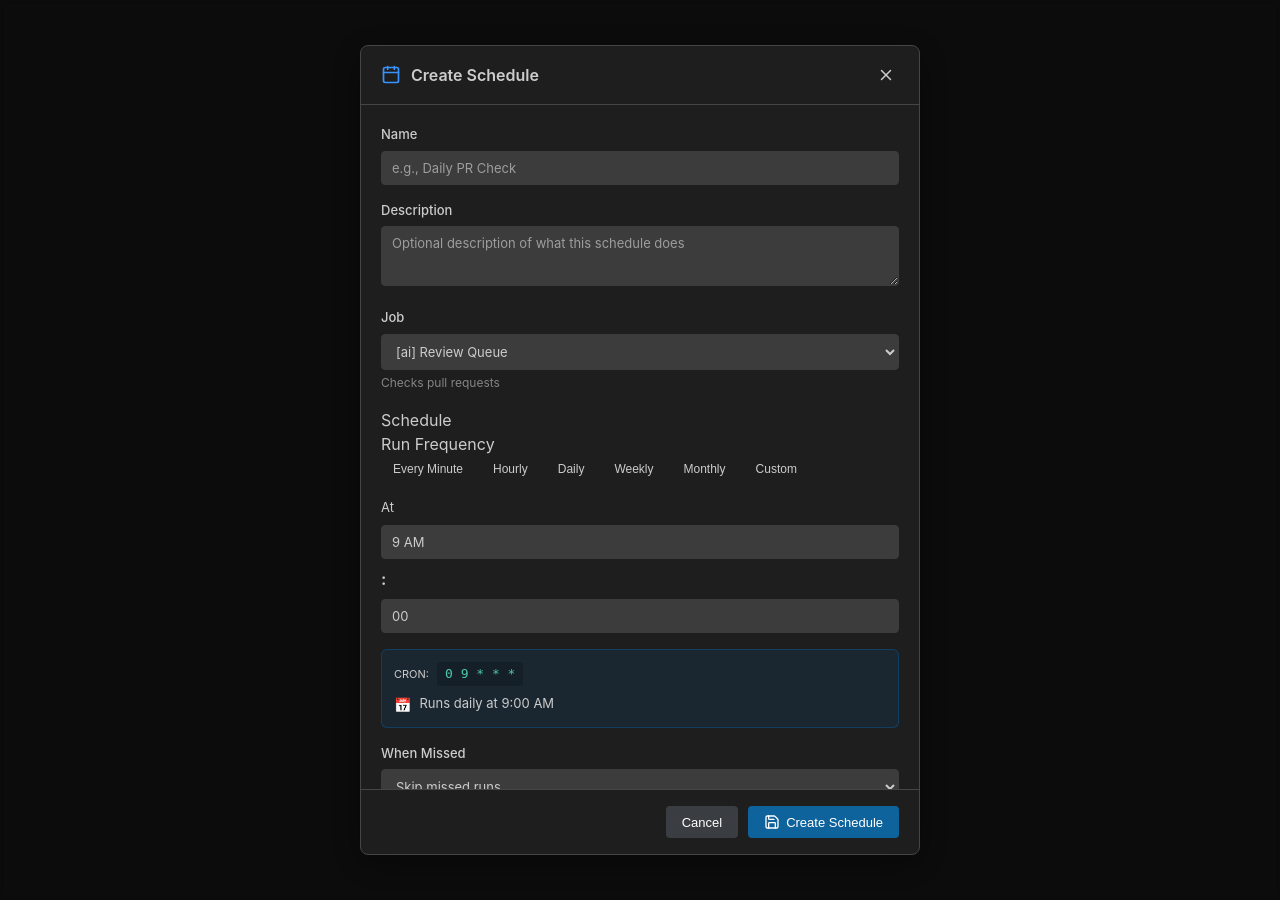
Test case: ScheduleEditor › shows error when save operation fails
In the field labelled "Name": (640, 168) x1=381 y1=150 x2=899 y2=184, type "Test Schedule"
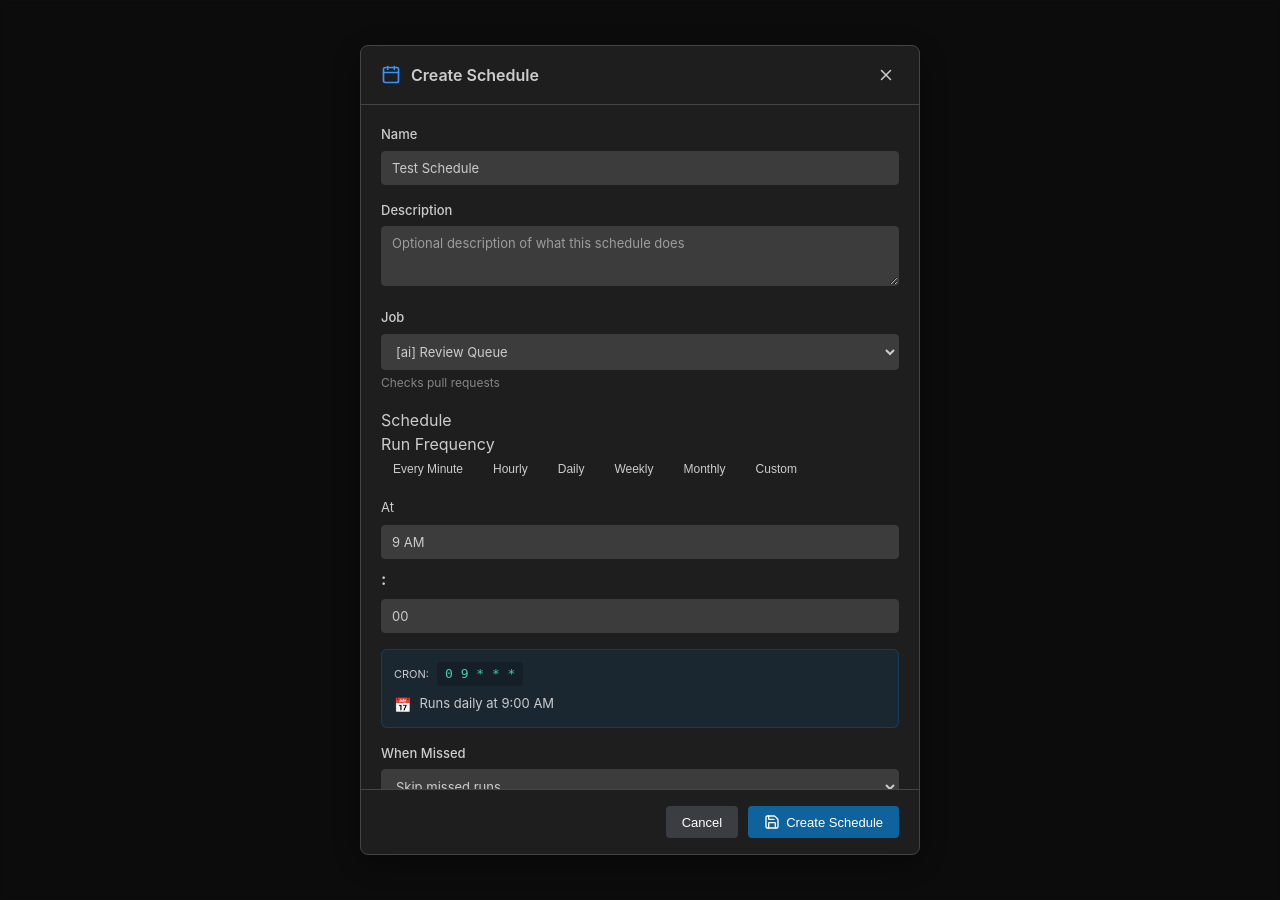
Click the button "Create Schedule": (824, 822) x1=748 y1=806 x2=899 y2=838
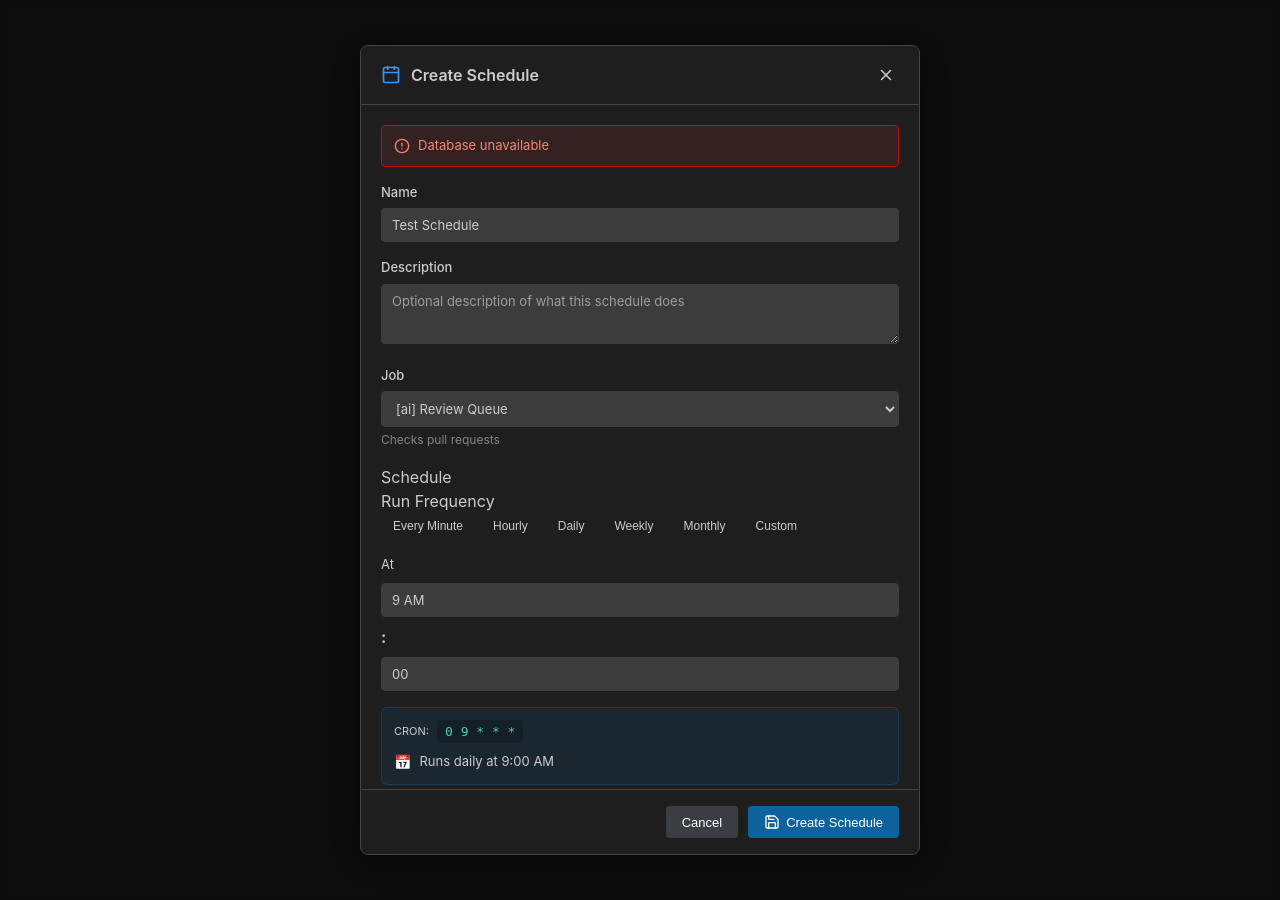
Check: the text "Database unavailable" is shown, box x1=418 y1=136 x2=549 y2=156
